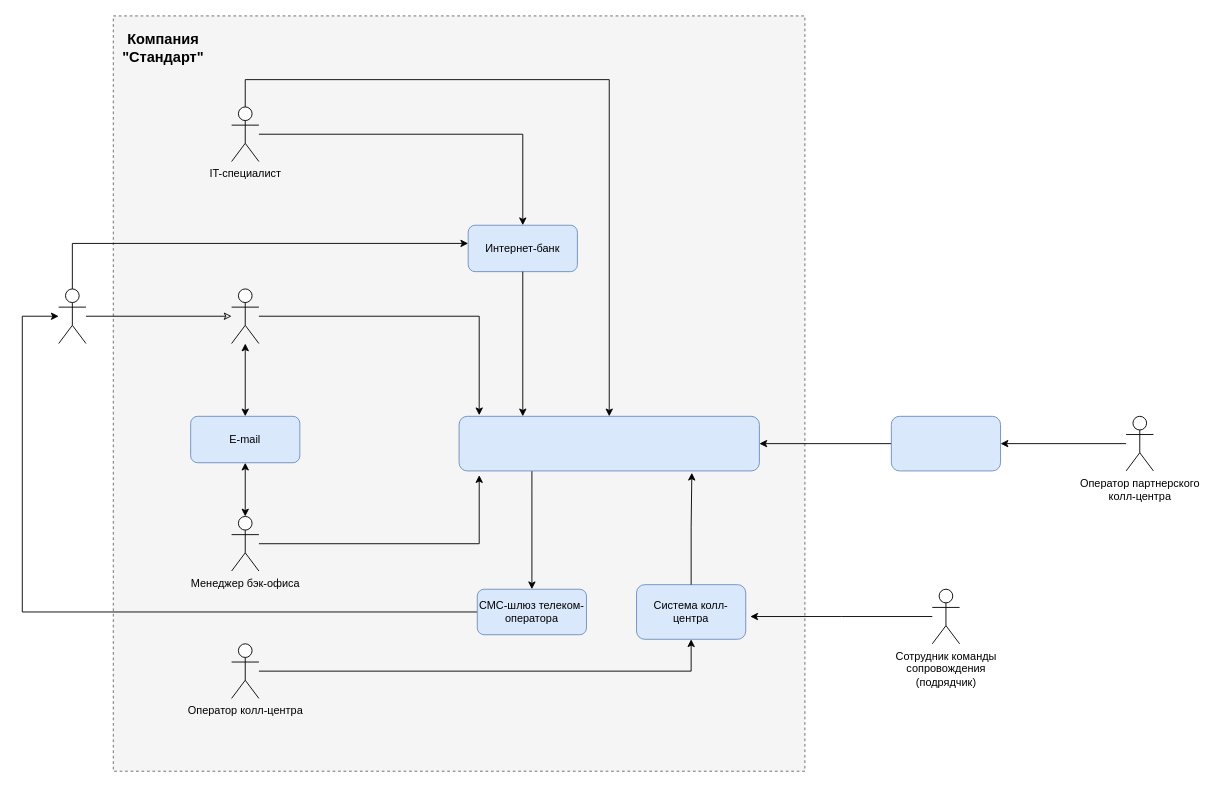
The diagram is 1216 pixels wide and 787 high, and some of its shapes have lost their labels. Here are the shapes that lost their labels. From the top down, the centre of each, then its label:
point 72,316: Клиент
point 245,316: Менеджер фронт-офиса
point 608,443: АБС
point 945,443: Система партнерского колл-центра
